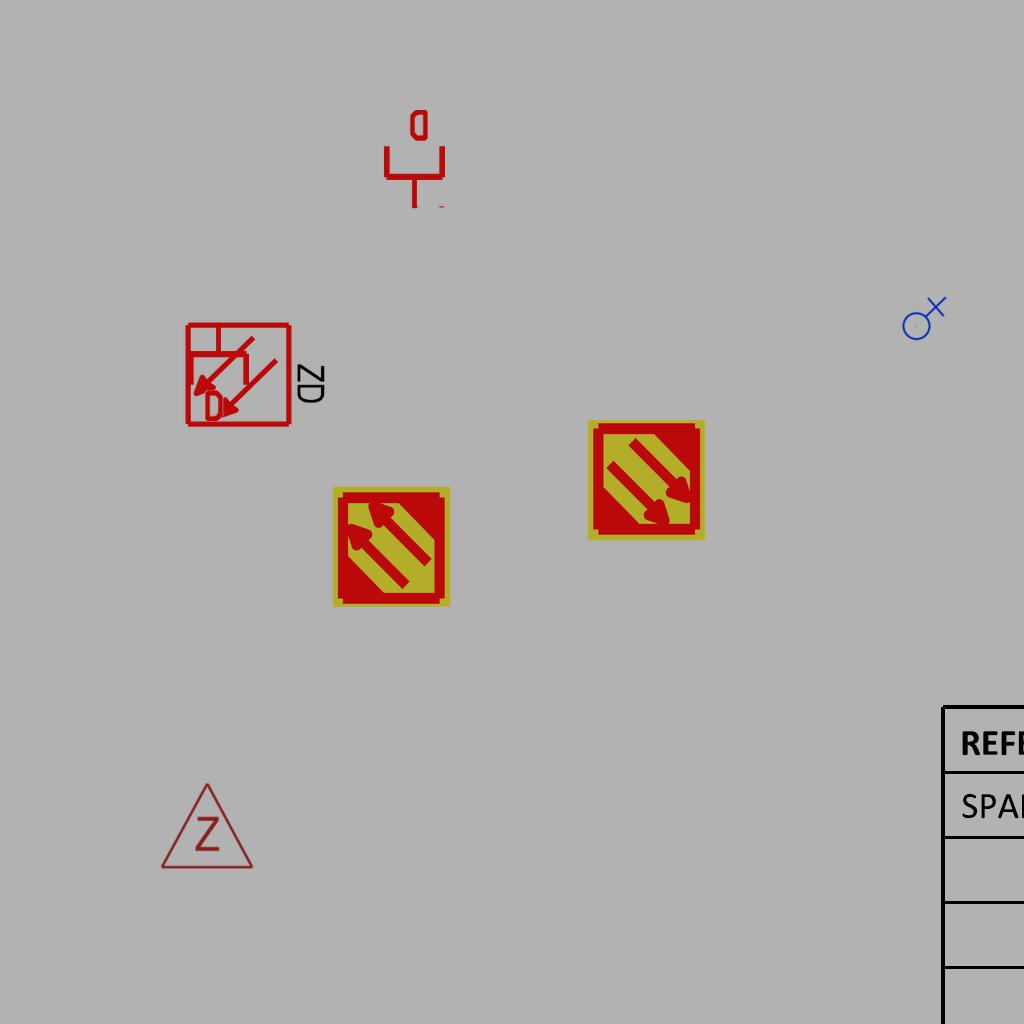ASR_Ansaugrauchmelder: (584, 418, 709, 543), (329, 484, 454, 609)
Datenanschluss_einfach: (380, 110, 449, 210), (184, 321, 253, 421)
Elektroanschluss_allgemein_230V_Geraeteanschlussdose_230V: (898, 294, 947, 341)
ZD_Melder_in_Zwischendecke_mit_Revisionsoeffnung_mind_40_x_40_cm: (183, 316, 332, 430)
Zimmersignalleuchte: (157, 776, 255, 876)
